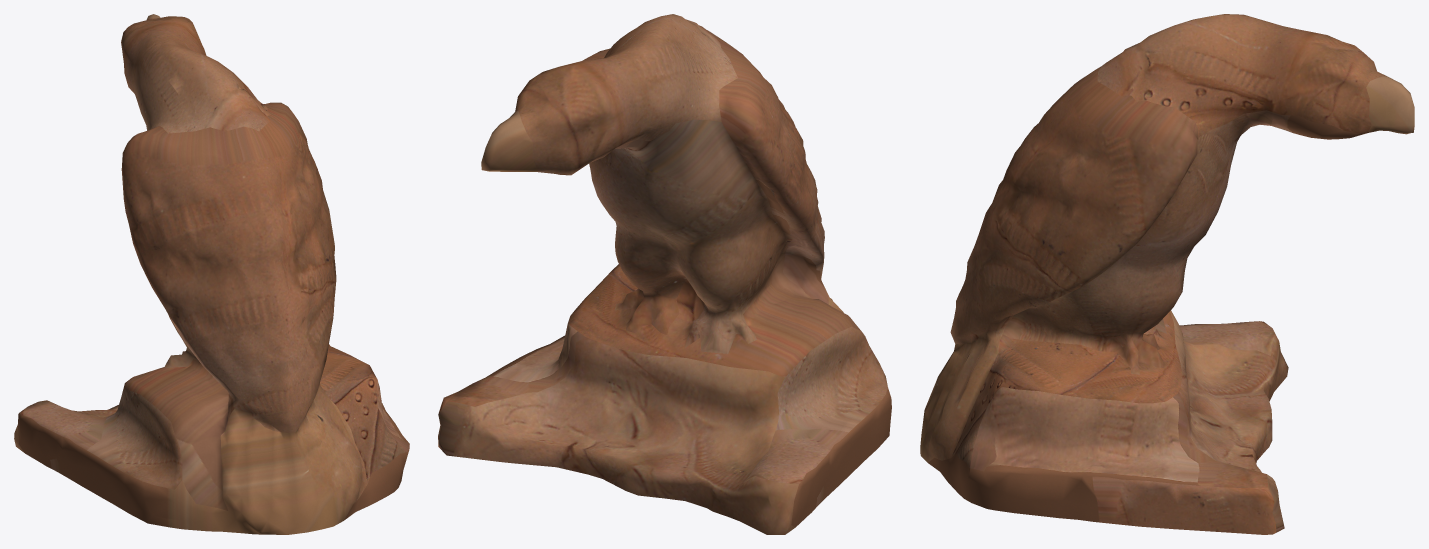
The model's file is eagle.gltf.
3 renders of one model, left to right at view 1: azimuth 30°, elevation 25°; view 2: azimuth 150°, elevation 25°; view 3: azimuth 270°, elevation 25°, orthographic. The views are drawn at different scales.
Visible parts, largest first — view 1: eagle; view 2: eagle; view 3: eagle.
Boxes of the visible parts, x1,y1,x2,y2 form: eagle: (14, 14, 409, 534); eagle: (438, 14, 891, 534); eagle: (920, 14, 1414, 534).
Bounding box in the file's own units: 25.28 × 30 × 31.29.
